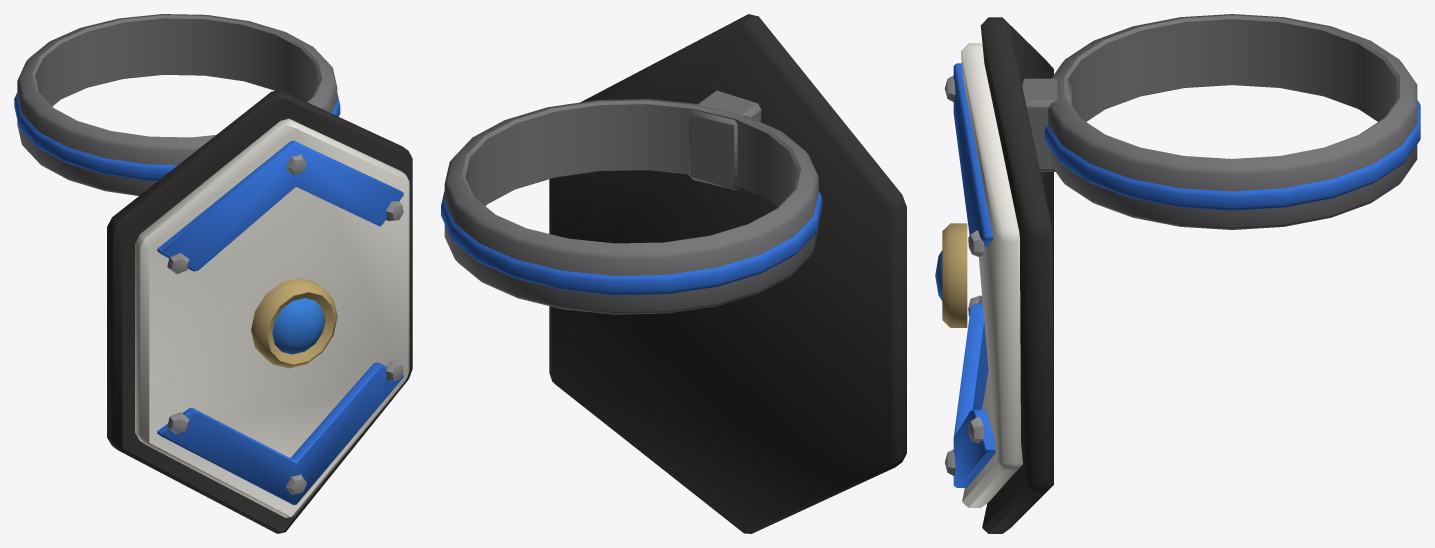
Rendered from Kit_Deco_ProPanel_L.glb.
3 renders of one model, left to right at view 1: azimuth 30°, elevation 25°; view 2: azimuth 150°, elevation 25°; view 3: azimuth 270°, elevation 25°, orthographic. The views are drawn at different scales.
Parts seen in each view (by area): view 1: Kit_Deco_ProPanel_L; view 2: Kit_Deco_ProPanel_L; view 3: Kit_Deco_ProPanel_L.
Part boxes in pixels (x1,y1,x2,y2): Kit_Deco_ProPanel_L: (14, 14, 412, 533); Kit_Deco_ProPanel_L: (441, 14, 906, 533); Kit_Deco_ProPanel_L: (935, 14, 1420, 533).
Size of the model in its own units: 0.2243 by 0.3136 by 0.2697.
